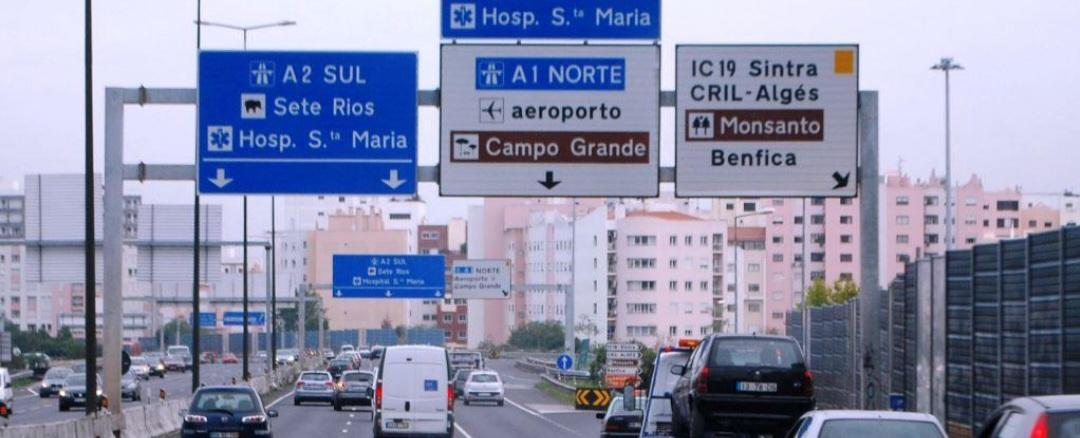Destinos sobre o itnerario: (439, 3, 662, 201), (198, 57, 415, 194), (678, 44, 857, 197)
